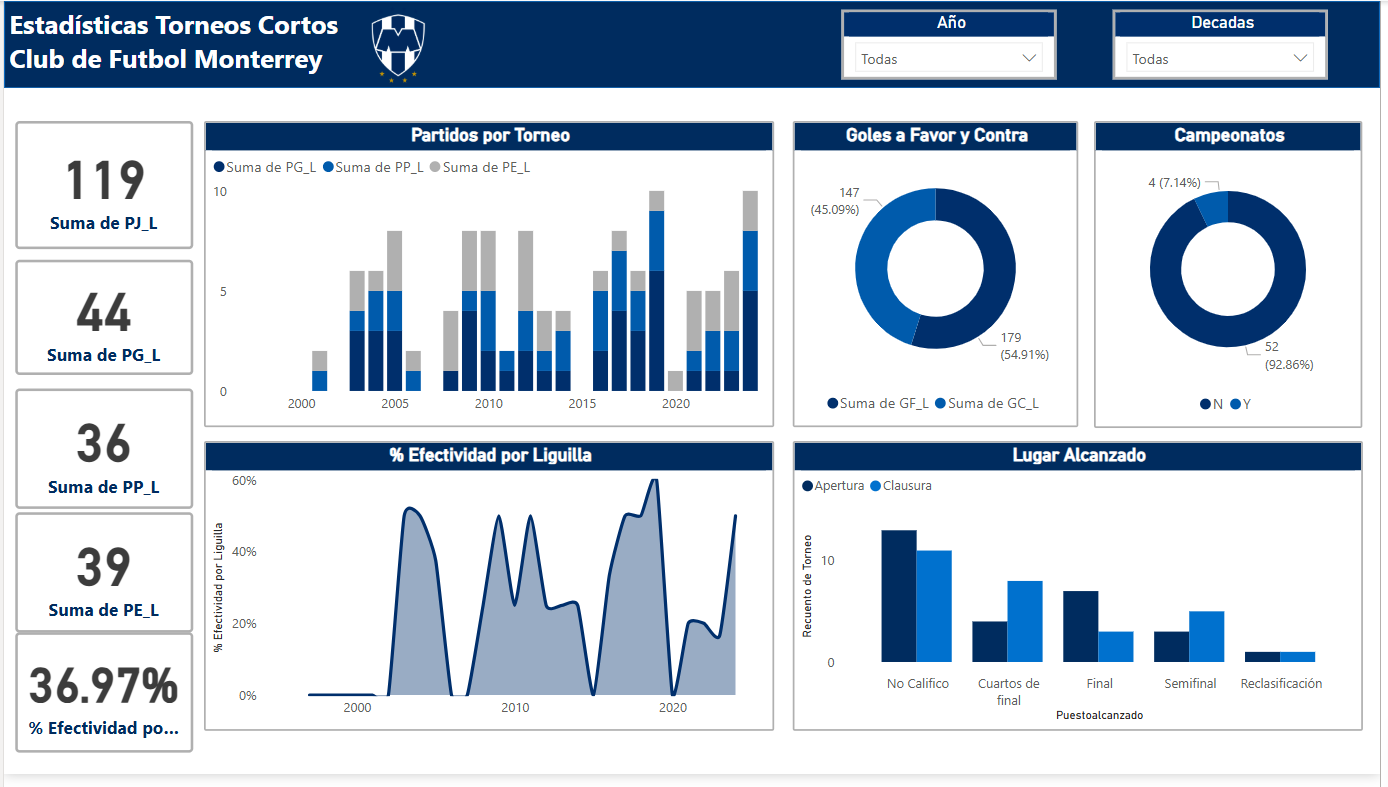

The page's visual inventory and layout, read from the dashboard file:
{"tool":"powerbi","page":{"name":"Liguilla","canvas":[1280,720],"ordinal":2},"visuals":[{"type":"shape","box":[0,0,1280,81.2],"z":0},{"type":"slicer","title":"Año","fields":{"Values":["Estadisticas_Rayados_Todo.Año"]},"box":[779.5,8.6,199.6,65],"z":1000},{"type":"slicer","title":"Decadas","fields":{"Values":["Estadisticas_Rayados_Todo.Decadas"]},"box":[1031.6,8.6,199.6,65],"z":2000},{"type":"card","title":"Cantidad Partidos","fields":{"Values":["Sum(Estadisticas_Rayados_Todo.PJ_L)"]},"box":[10.5,111.8,165.3,119.4],"z":3000},{"type":"card","title":"Partidos Ganados","fields":{"Values":["Sum(Estadisticas_Rayados_Todo.PG_L)"]},"box":[10.5,240.7,165.3,107],"z":4000},{"type":"card","title":"Partidos Perdidos","fields":{"Values":["Sum(Estadisticas_Rayados_Todo.PP_L)"]},"box":[10.5,360.1,165.3,111.8],"z":5000},{"type":"card","title":"Partidos Empatados","fields":{"Values":["Sum(Estadisticas_Rayados_Todo.PE_L)"]},"box":[10.5,475.7,165.3,111.8],"z":6000},{"type":"card","title":"% Efectividad","fields":{"Values":["Medidas.% Efectividad por Liguilla"]},"box":[10.5,587.5,165.3,111.8],"z":7000},{"type":"areaChart","title":"% Efectividad por Liguilla","fields":{"Category":["Estadisticas_Rayados_Todo.Año"],"Y":["Medidas.% Efectividad por Liguilla"]},"box":[186.3,409.8,530.1,269.4],"z":8000},{"type":"clusteredColumnChart","title":"Lugar Alcanzado","fields":{"Category":["Estadisticas_Rayados_Todo.Puestoalcanzado"],"Y":["CountNonNull(Estadisticas_Rayados_Todo.Torneo)"],"Series":["Estadisticas_Rayados_Todo.Tipo_Torneo"]},"box":[733.6,409.8,530.1,269.4],"z":9000},{"type":"textbox","box":[0,0,429.9,81.2],"z":10000},{"type":"image","box":[327.6,0,78.3,81.2],"z":11000},{"type":"columnChart","title":"Partidos por Torneo","fields":{"Category":["Estadisticas_Rayados_Todo.Año"],"Y":["Sum(Estadisticas_Rayados_Todo.PG_L)","Sum(Estadisticas_Rayados_Todo.PP_L)","Sum(Estadisticas_Rayados_Todo.PE_L)"]},"box":[186.3,111.8,530.1,284.7],"z":12000},{"type":"donutChart","title":"Goles a Favor y Contra","fields":{"Y":["Sum(Estadisticas_Rayados_Todo.GF_L)","Sum(Estadisticas_Rayados_Todo.GC_L)"]},"box":[733.6,111.8,265.6,284.7],"z":13000},{"type":"donutChart","title":"Campeonatos","fields":{"Y":["CountNonNull(Estadisticas_Rayados_Todo.Torneo)"],"Category":["Estadisticas_Rayados_Todo.Campeon"]},"box":[1014.4,111.8,249.3,285.6],"z":14000}]}

Visuals, with their boxes in screenshot pixels (x1, y1, x2, y2), scaled from the page's 1280x720 canvas onto the 1388x787 screenshot:
shape: rect(0, 0, 1387, 89)
"Año" slicer: rect(845, 9, 1062, 80)
"Decadas" slicer: rect(1119, 9, 1335, 80)
"Cantidad Partidos" card: rect(11, 122, 191, 253)
"Partidos Ganados" card: rect(11, 263, 191, 380)
"Partidos Perdidos" card: rect(11, 394, 191, 516)
"Partidos Empatados" card: rect(11, 520, 191, 642)
"% Efectividad" card: rect(11, 642, 191, 764)
"% Efectividad por Liguilla" areaChart: rect(202, 448, 777, 742)
"Lugar Alcanzado" clusteredColumnChart: rect(795, 448, 1370, 742)
textbox: rect(0, 0, 466, 89)
image: rect(355, 0, 440, 89)
"Partidos por Torneo" columnChart: rect(202, 122, 777, 433)
"Goles a Favor y Contra" donutChart: rect(795, 122, 1084, 433)
"Campeonatos" donutChart: rect(1100, 122, 1370, 434)
